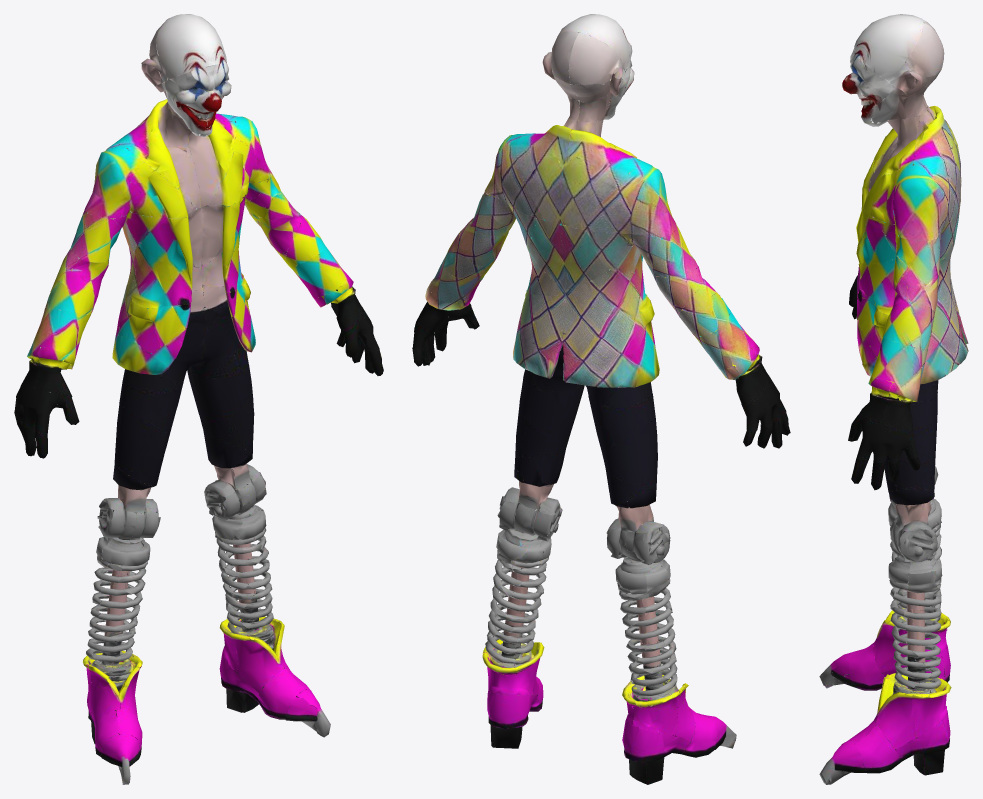
Rendered from 09_spring_boot_trickster.glb.
3 renders of one model, left to right at view 1: azimuth 30°, elevation 25°; view 2: azimuth 150°, elevation 25°; view 3: azimuth 270°, elevation 25°, orthographic. The views are drawn at different scales.
Parts seen in each view (by area): view 1: mesh_node; view 2: mesh_node; view 3: mesh_node.
Boxes of the visible parts, left/top/right/bottom form: mesh_node: left=14, top=14, right=383, bottom=784; mesh_node: left=412, top=14, right=790, bottom=784; mesh_node: left=819, top=14, right=968, bottom=784.
Size of the model in its own units: 0.9805 by 1.9 by 0.3578.
1 material, 1 textured.
